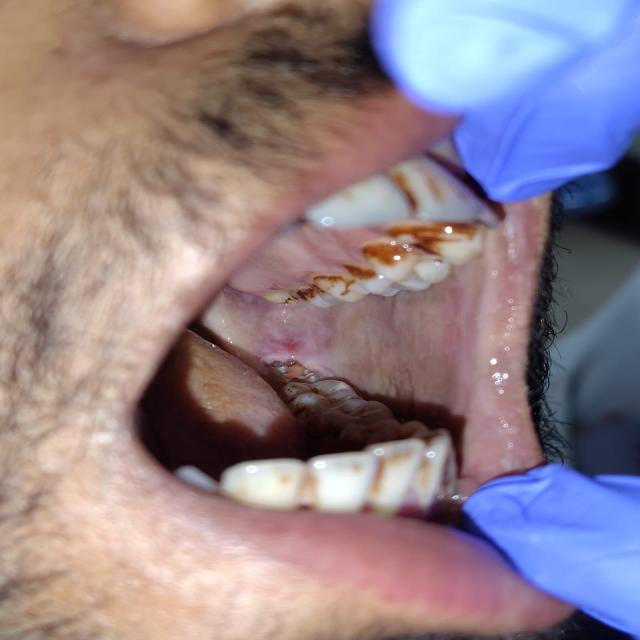leukoplakia-like-detection: (207, 250, 500, 410)
processing_area: (191, 229, 520, 473)
